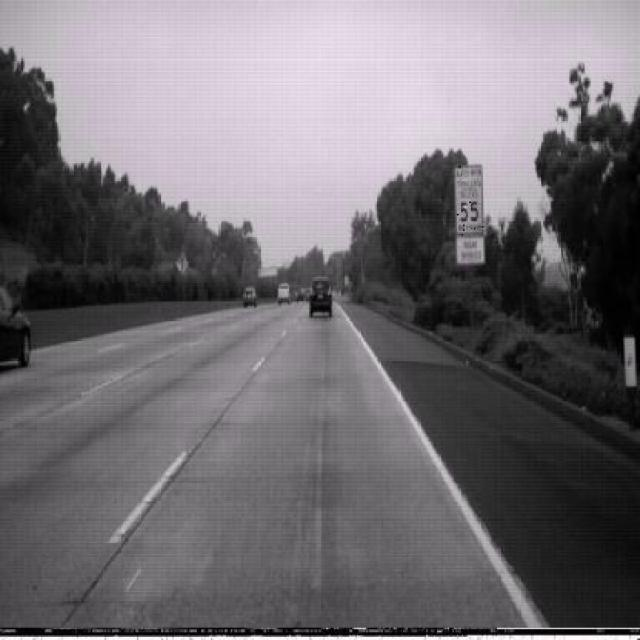truckSpeedLimit55: (454, 163, 484, 237)
